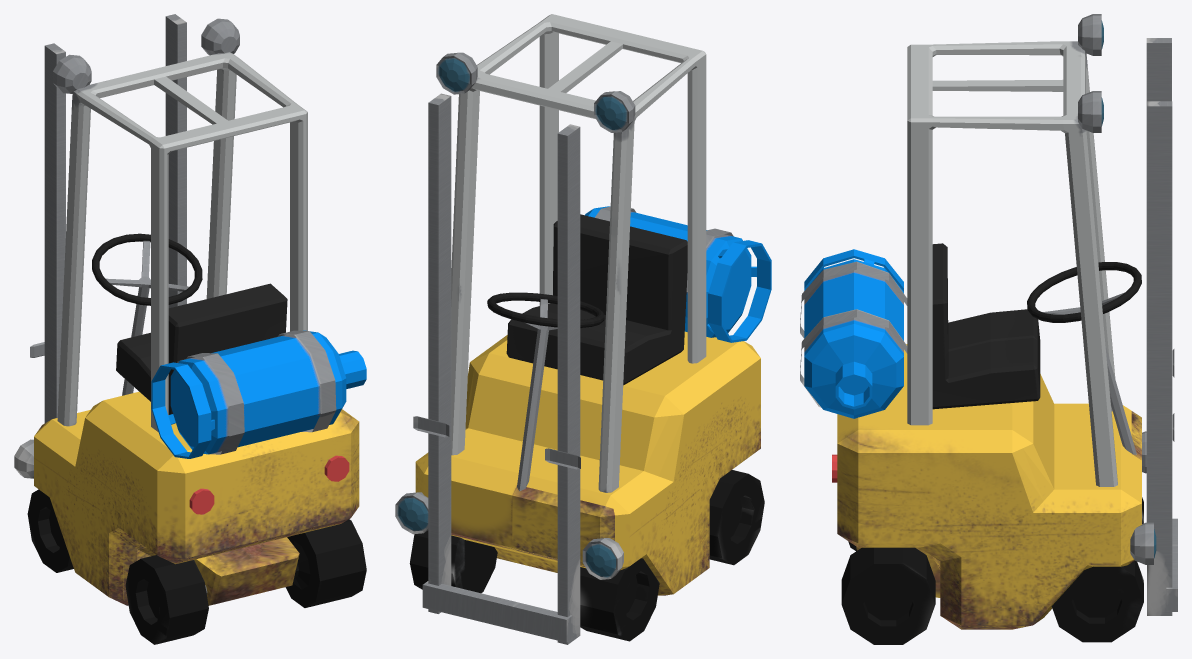
File: LiftCabin-Object.FBX
3 renders of one model, left to right at view 1: azimuth 30°, elevation 25°; view 2: azimuth 150°, elevation 25°; view 3: azimuth 270°, elevation 25°, orthographic. The views are drawn at different scales.
Visible parts, largest first — view 1: Forks_Forklift; view 2: Forks_Forklift; view 3: Forks_Forklift.
Part boxes in pixels (<box>): Forks_Forklift: <box>14,14,366,644</box>; Forks_Forklift: <box>395,14,771,644</box>; Forks_Forklift: <box>800,14,1177,644</box>.
Size of the model in its own units: 93.29 by 216 by 137.
1 material, 1 textured.
